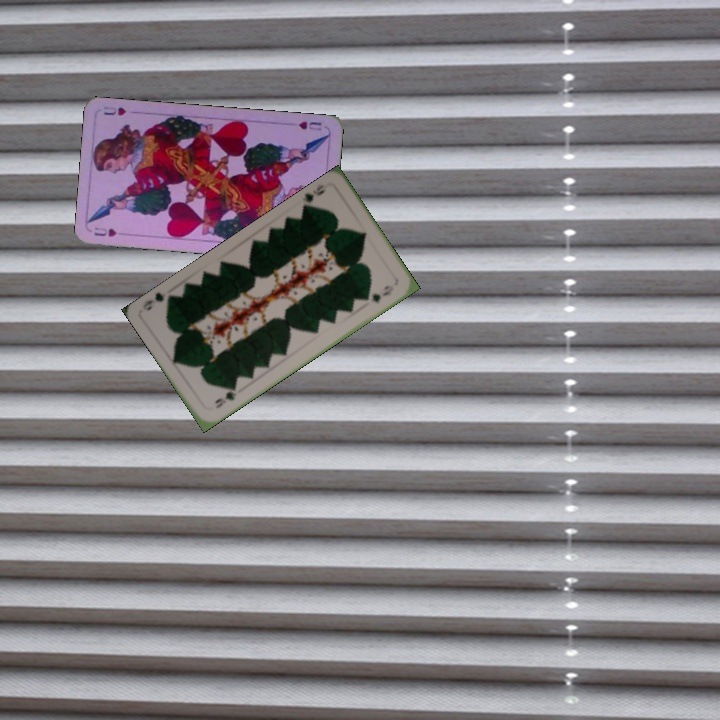G9: (298, 180, 328, 211), (210, 382, 239, 411)
HU: (90, 223, 130, 239), (295, 117, 324, 133)
